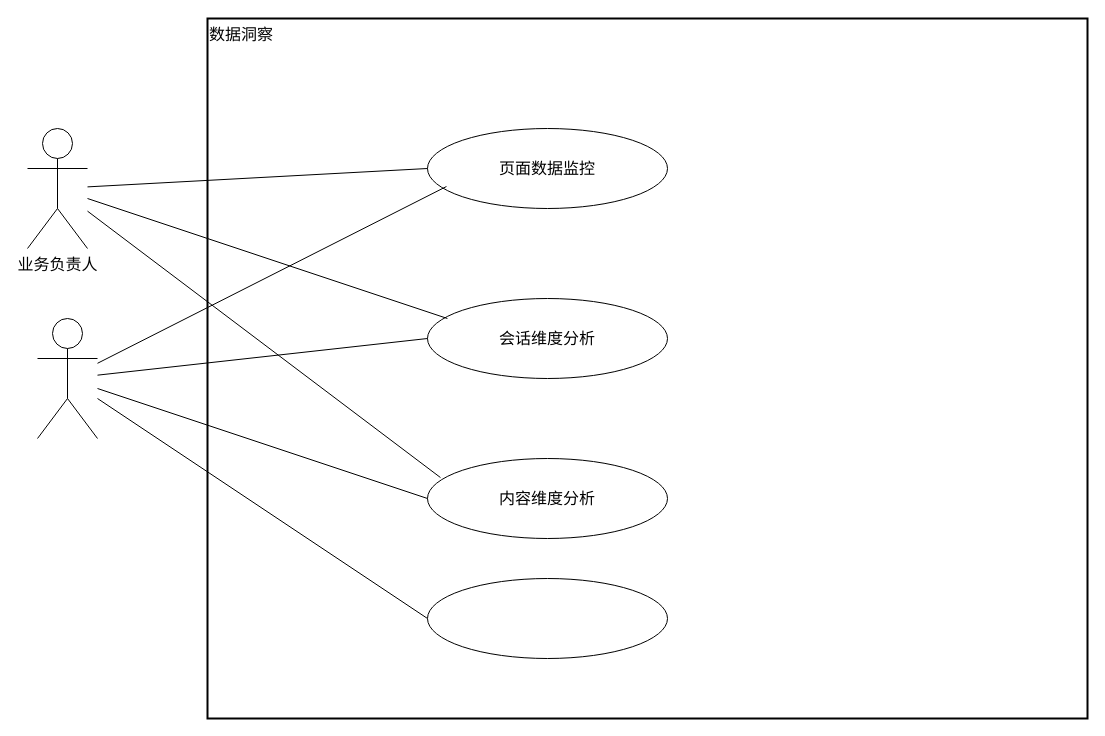
Some shapes in this 1105 by 736 pixel diagram are drawn without their labels. The centre of each missing label's shape, as x and y in pixels:
"业务运营" belongs at pixel 67 378.
"会话明细" belongs at pixel 547 618.
